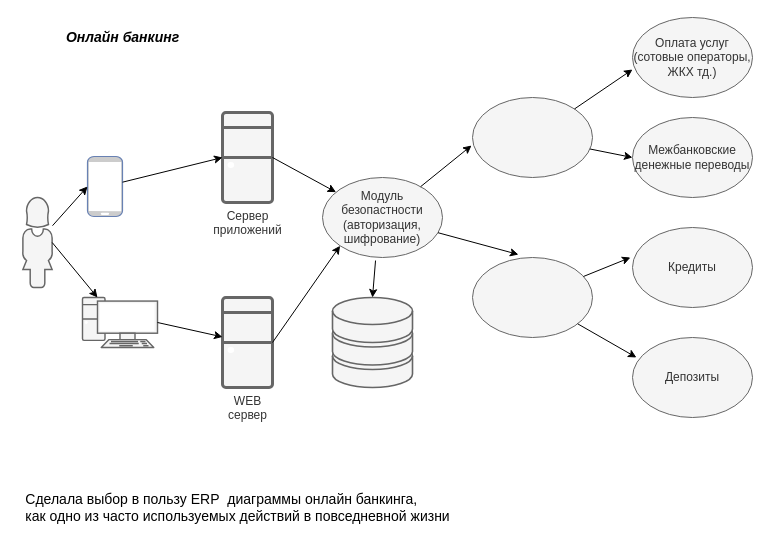
The diagram is 770 pixels wide and 542 high, and some of its shapes have lost their labels. The shapes that lost their labels are listed below. From the top down, each one's centre as x and y in pixels, then its label:
point 532,137: Платежный модуль
point 532,297: Модуль ведения счетов
point 372,342: Клиентская база
